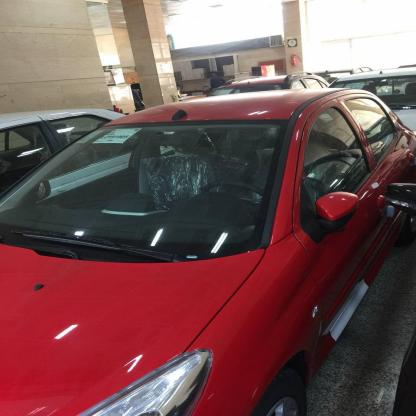Car: (0, 81, 416, 416), (0, 101, 126, 185), (338, 49, 416, 156)
